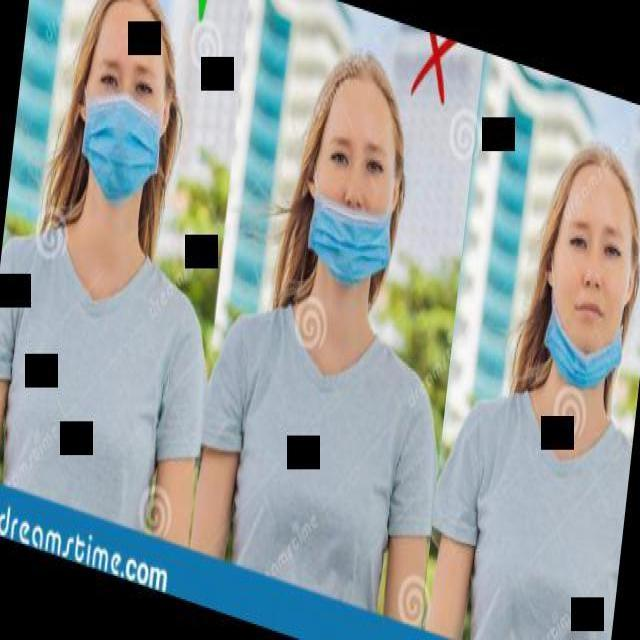hairnet: (549, 258, 629, 387), (314, 173, 393, 284)
